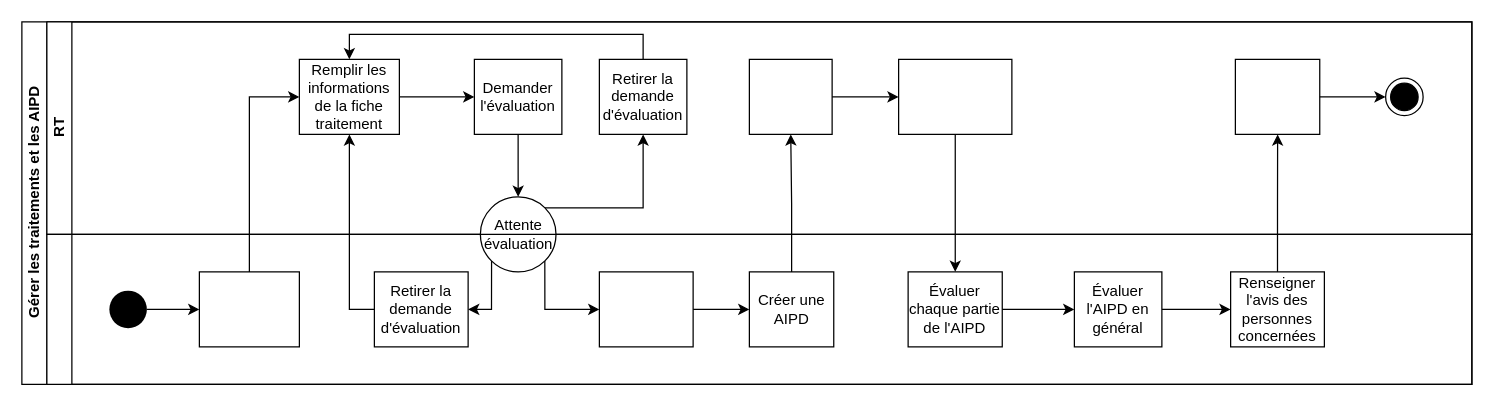
This 1494x406 diagram has some shape labels left out. Here are the shapes that lost their labels. From the top down, the box of each, then its label:
(748, 58, 832, 134): Renseigner l'AIPD
(897, 58, 1012, 134): Demander l'évaluation de chaque partie de l'AIPD
(1234, 58, 1320, 134): Valider ou non l'AIPD
(198, 271, 299, 347): Créer la fiche traitement
(598, 271, 693, 347): Évaluer le traitement
(46, 233, 1472, 384): DPO
